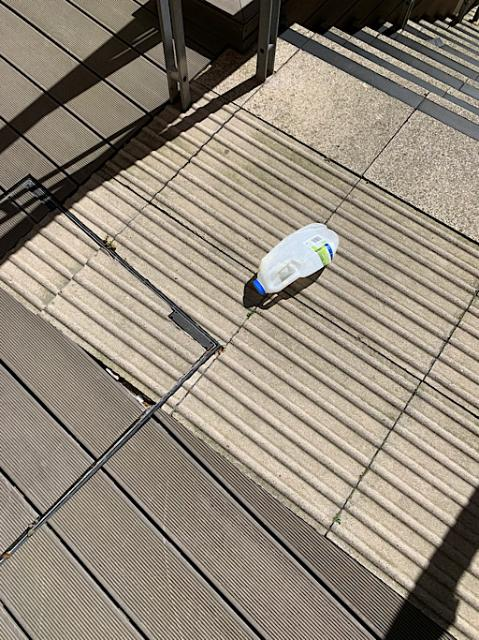plastic: (254, 222, 337, 292)
